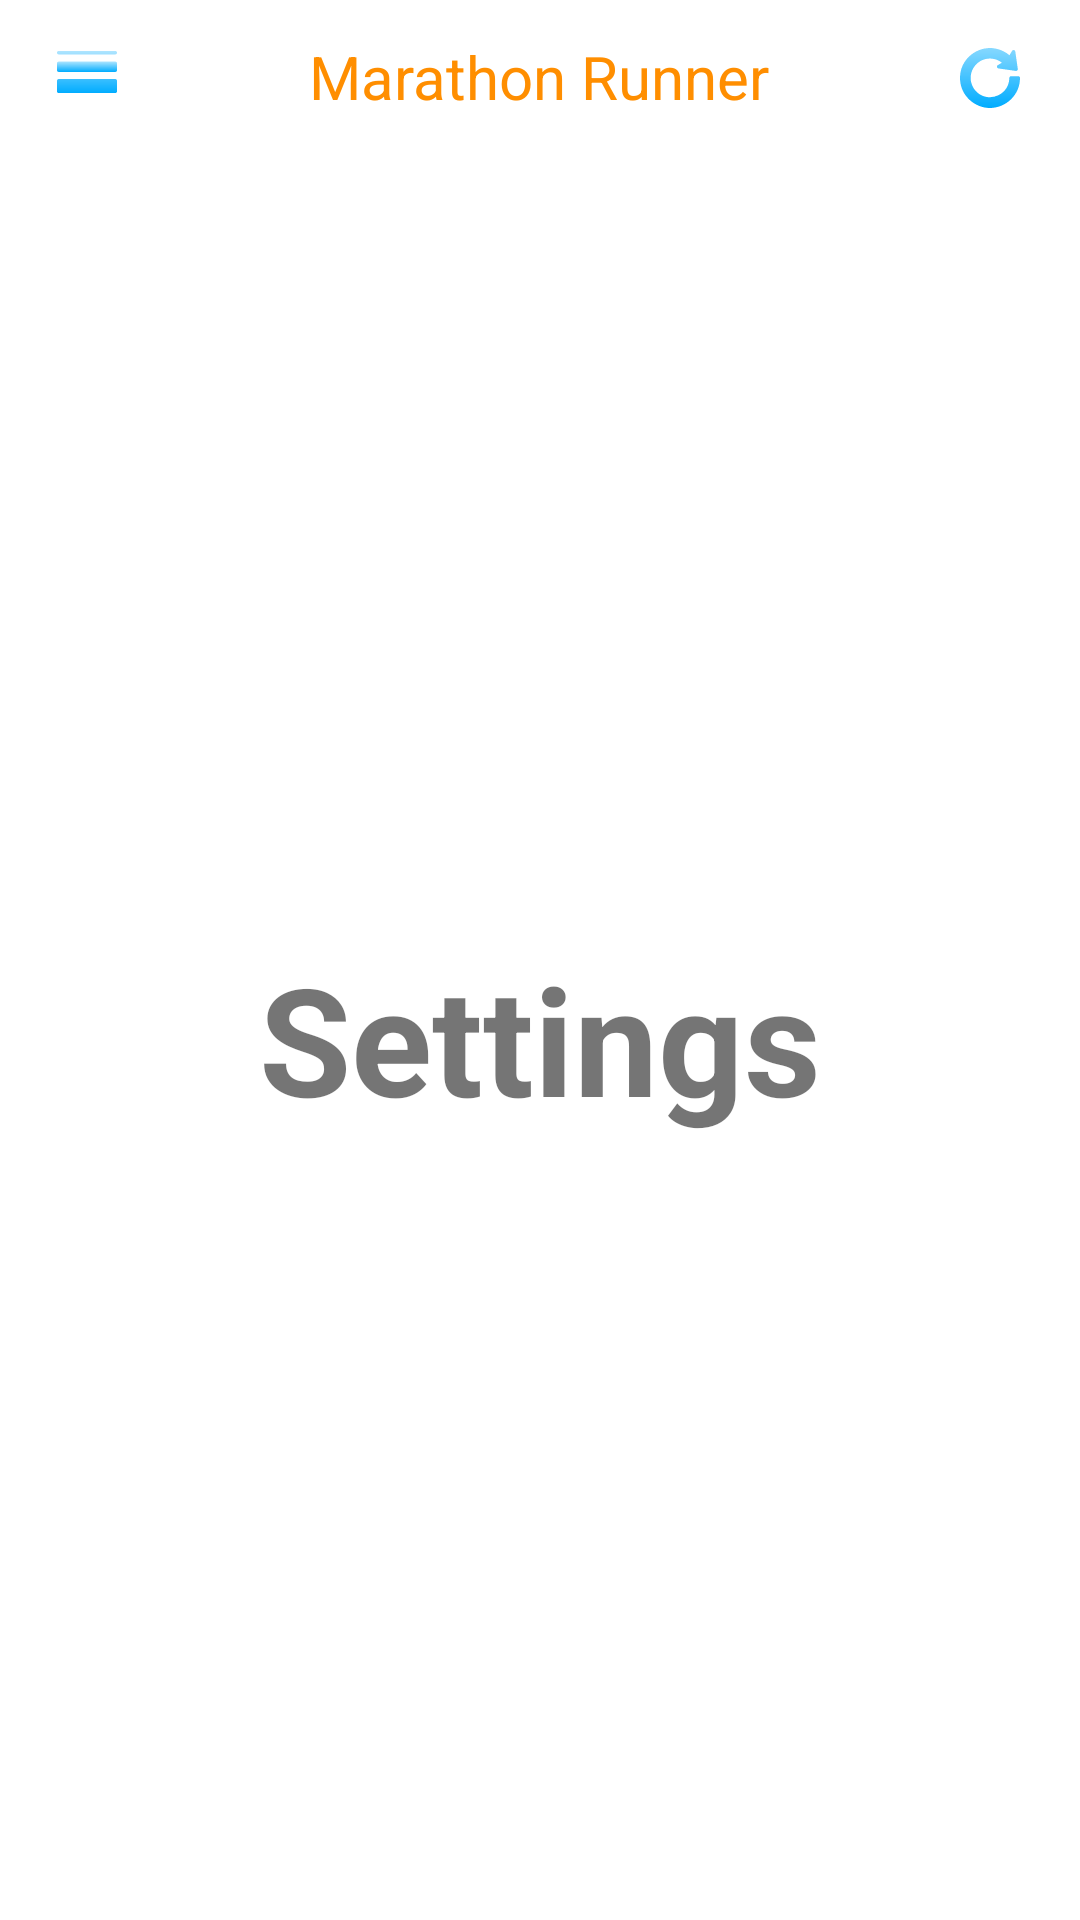

Where to tap for icons on this 1080w x 1920h app screen, as (x=x, y=y):
menu: (x=87, y=72)
refresh: (x=990, y=78)
